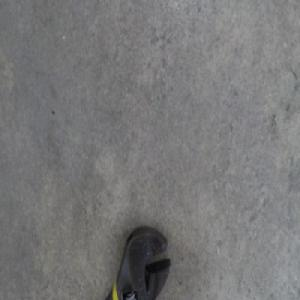AdjustableWrench: (106, 227, 172, 299)
